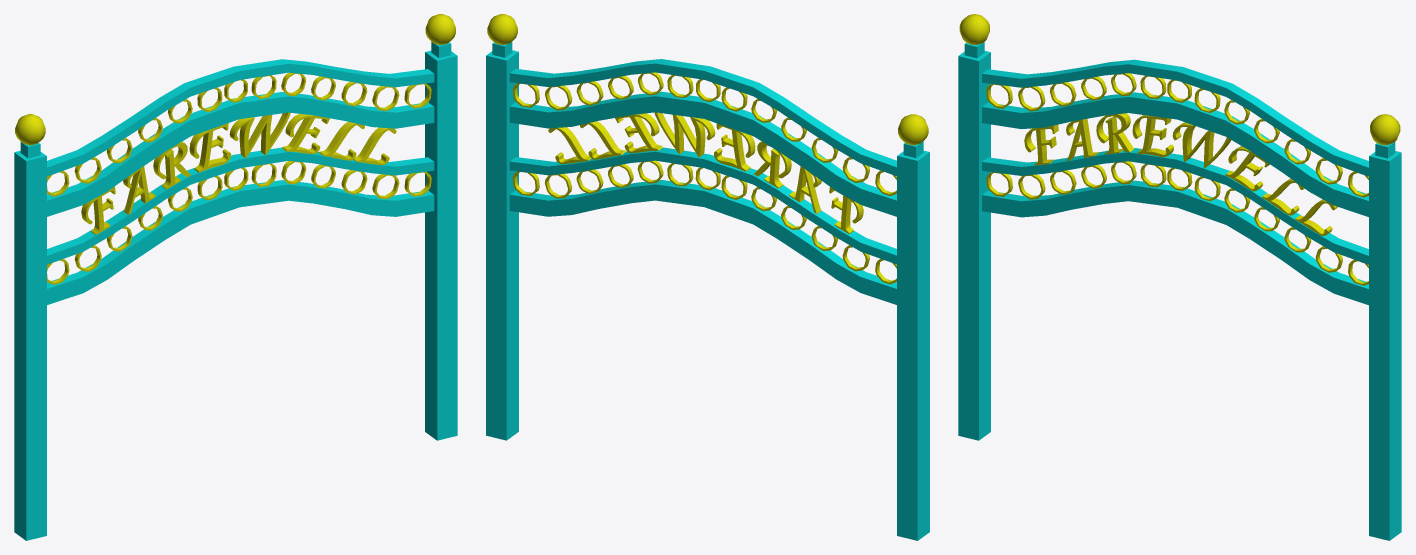
File: Gateway_Exit.fbx
3 views of the same model, side by side, from view 1: azimuth 30°, elevation 25°; view 2: azimuth 150°, elevation 25°; view 3: azimuth 330°, elevation 25° (orthographic).
Parts seen in each view (by area): view 1: Gatewway_Exit; view 2: Gatewway_Exit; view 3: Gatewway_Exit.
Boxes of the visible parts, x1,y1,x2,y2 form: Gatewway_Exit: [14, 14, 457, 540]; Gatewway_Exit: [486, 14, 929, 540]; Gatewway_Exit: [958, 14, 1401, 540].
Size of the model in its own units: 623 by 571 by 37.77.
